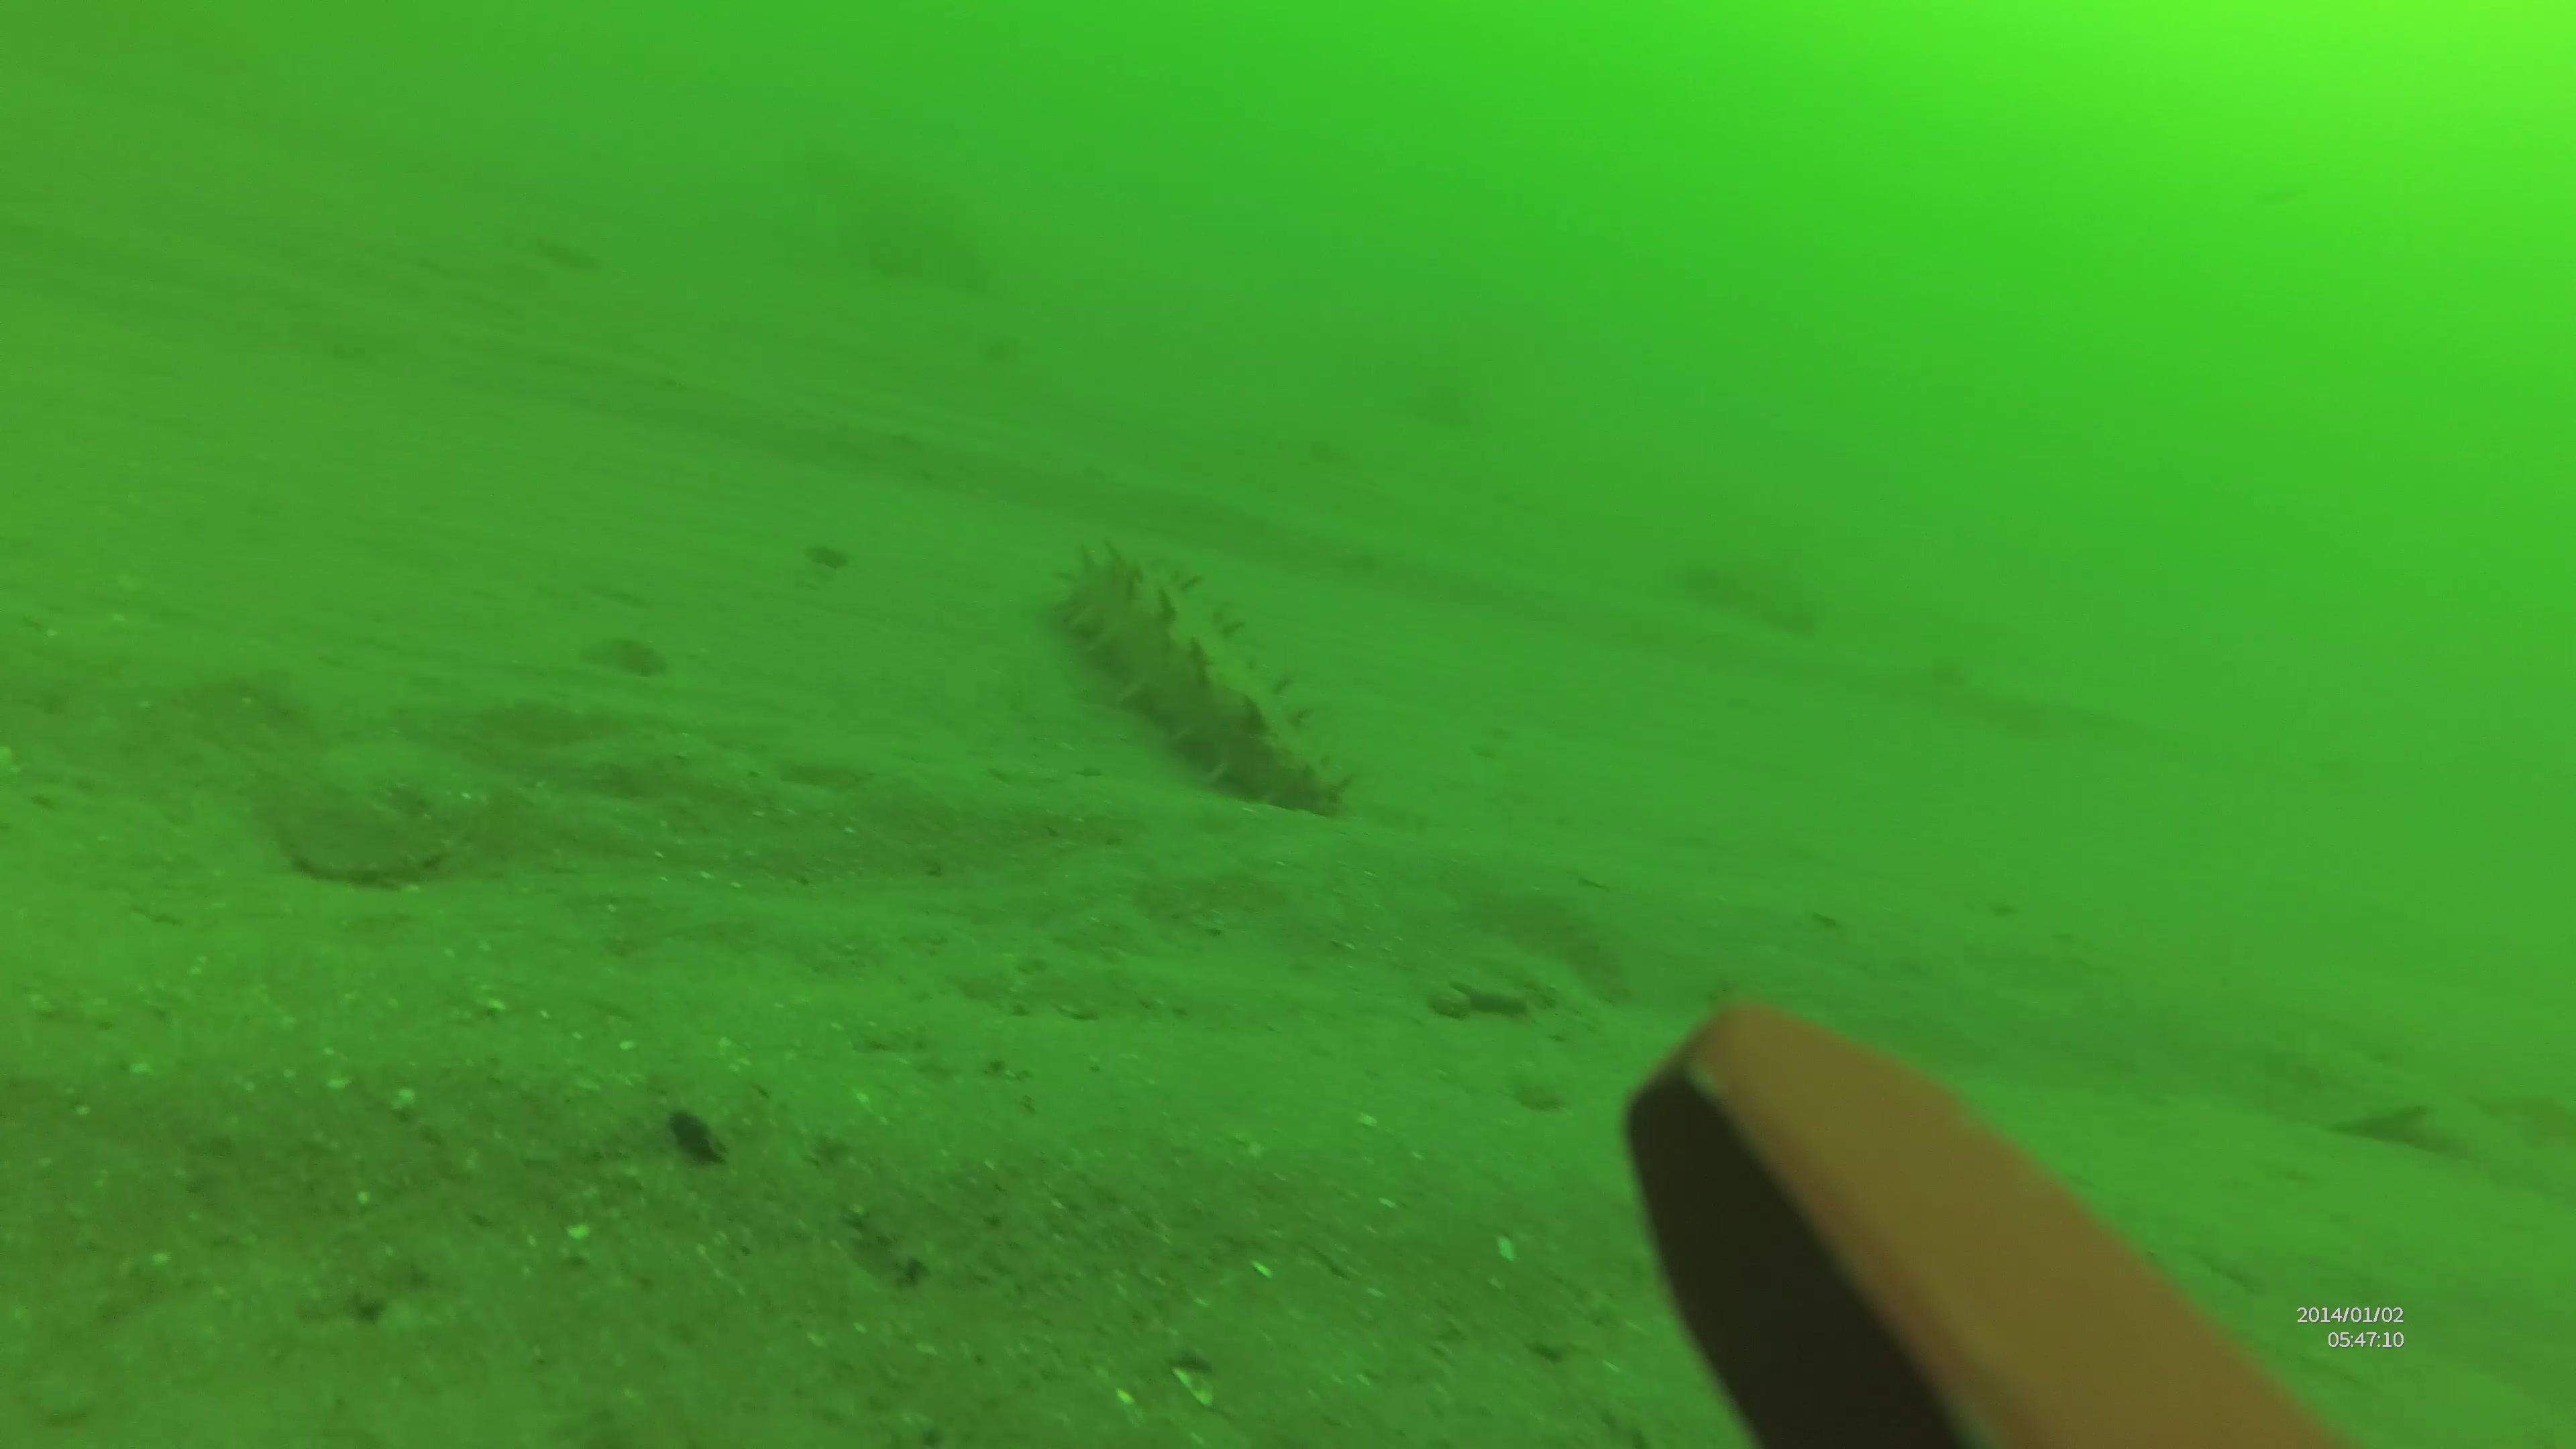holothurian: (1054, 540, 1350, 821)
